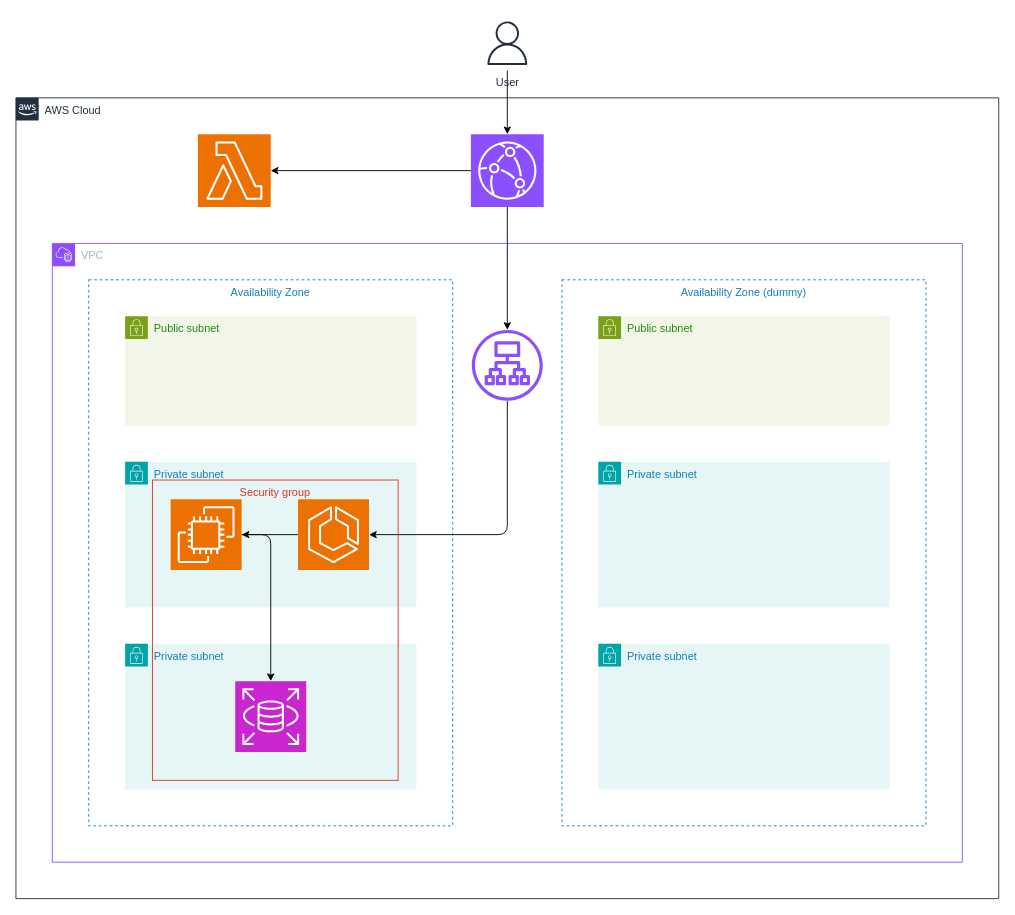
Some shapes in this 1015 by 915 pixel diagram are drawn without their labels. Each missing label, with the centre of its shape:
"ALB" belongs at point (506, 364).
"CloudFront" belongs at point (507, 170).
"EC2" belongs at point (206, 534).
"ECS" belongs at point (333, 534).
"Lambda(Next.js)" belongs at point (234, 170).
"RDS" belongs at point (270, 716).
